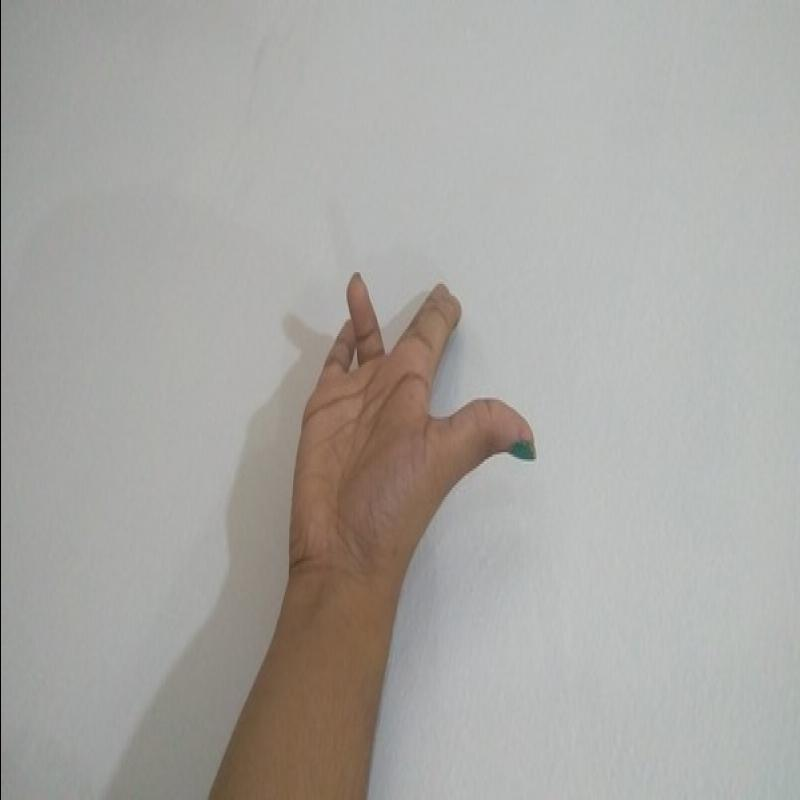Pathaaka: (279, 269, 540, 577)
